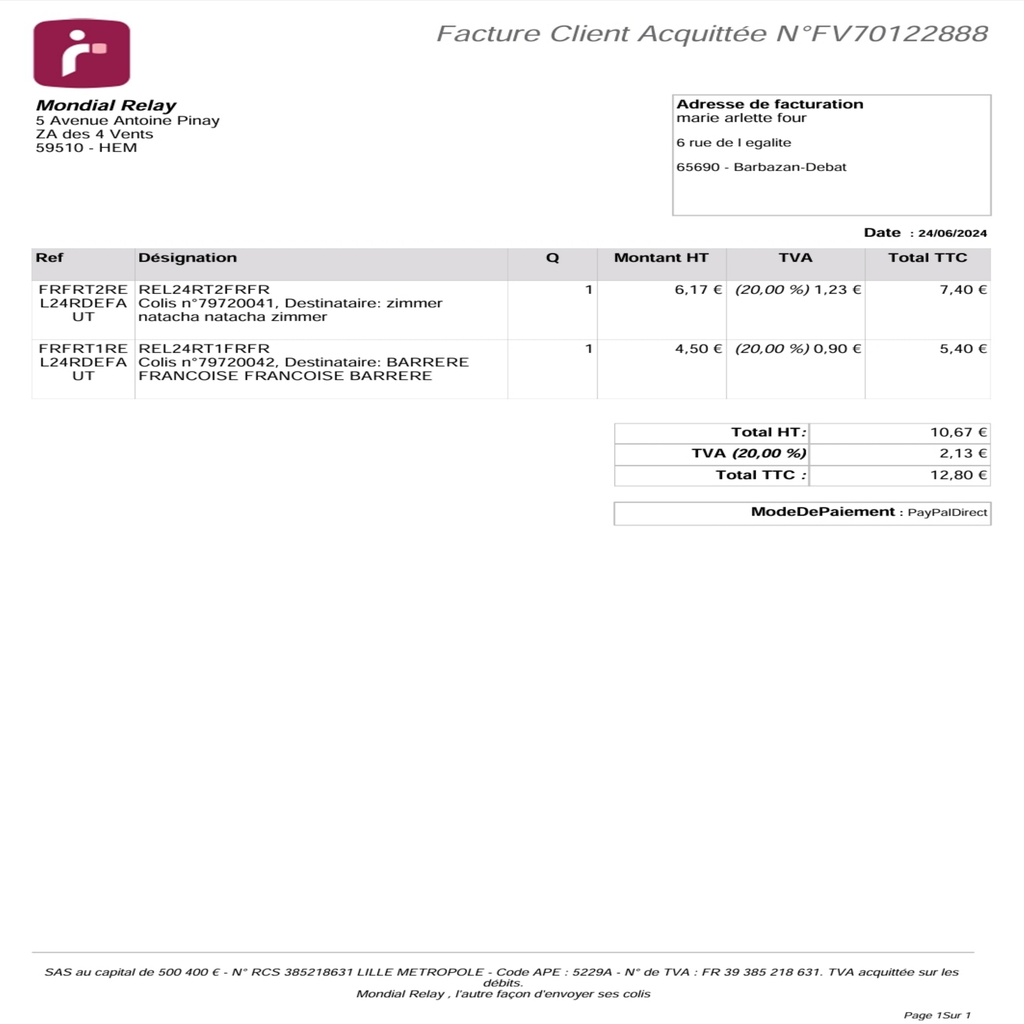recipt: (6, 6, 1016, 1009)
